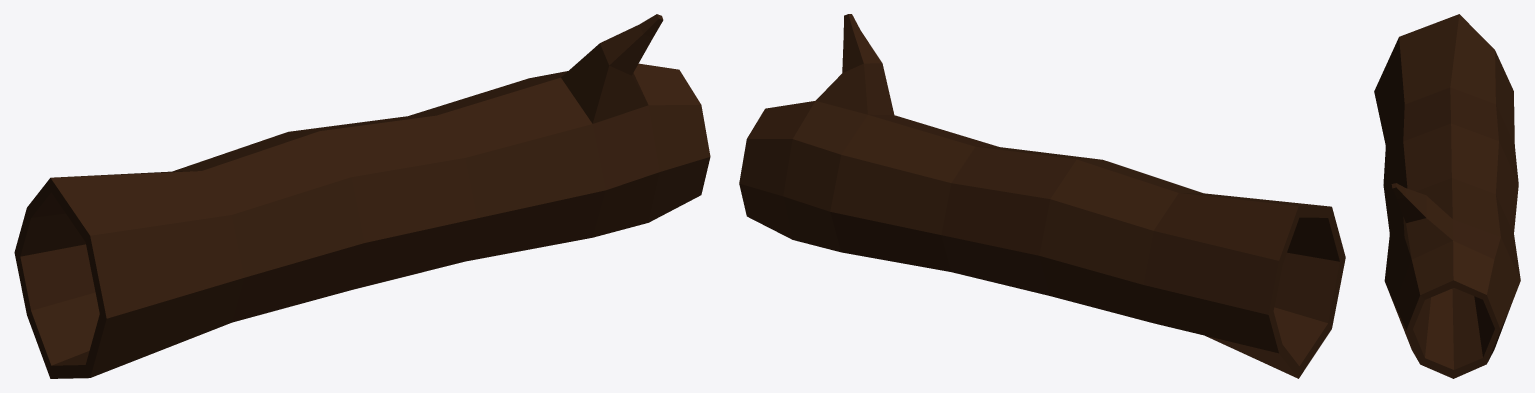
Rendered from Log01_EM.fbx.
3 renders of one model, left to right at view 1: azimuth 30°, elevation 25°; view 2: azimuth 150°, elevation 25°; view 3: azimuth 270°, elevation 25°, orthographic. The views are drawn at different scales.
Visible parts, largest first — view 1: Log02_EM; view 2: Log02_EM; view 3: Log02_EM.
Part boxes in pixels (x1,y1,x2,y2): Log02_EM: (14,14,710,378); Log02_EM: (739,14,1345,378); Log02_EM: (1374,14,1520,378).
Bounding box in the file's own units: 373 × 146 × 98.53.
